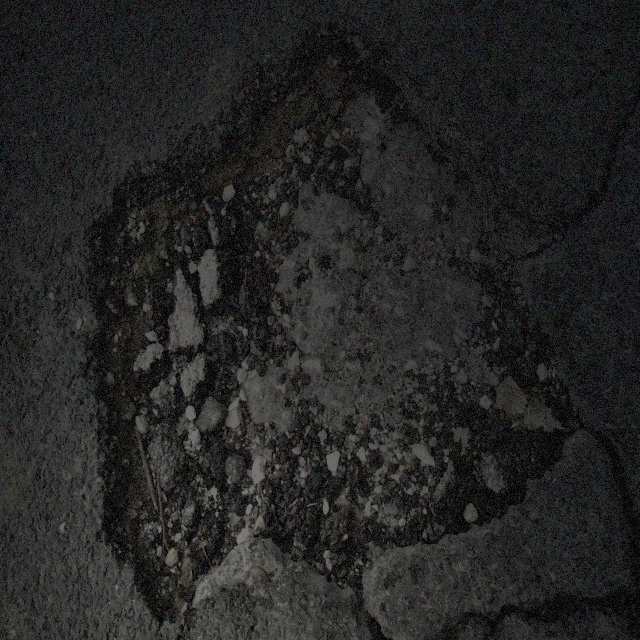pothole: (85, 26, 574, 604)
